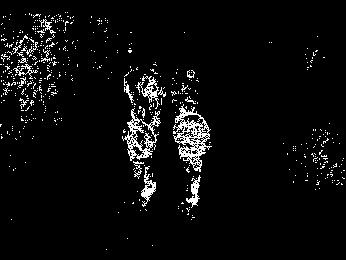person: (174, 100, 212, 211), (119, 105, 158, 207), (146, 62, 165, 110), (125, 62, 142, 109), (170, 64, 188, 102), (186, 67, 201, 102)
